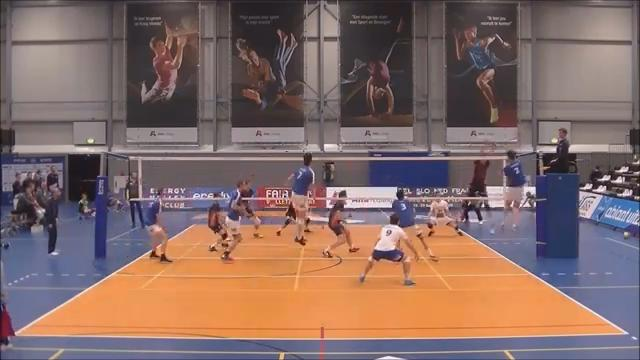Attack: (495, 148, 524, 238)
Player: (359, 214, 418, 285), (392, 189, 437, 260), (454, 145, 493, 226), (288, 153, 314, 245), (322, 200, 358, 257), (144, 188, 171, 262), (221, 181, 245, 262), (428, 198, 462, 235), (241, 180, 262, 237), (207, 201, 227, 251), (276, 202, 295, 235)
